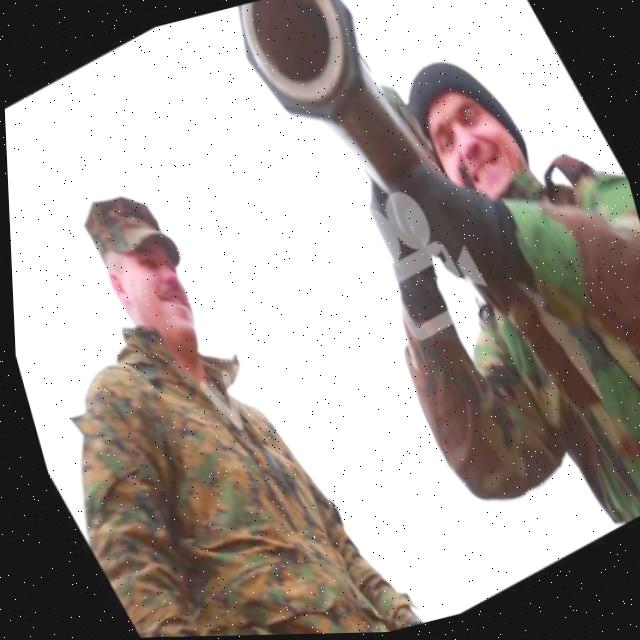rocket: (216, 0, 453, 251)
